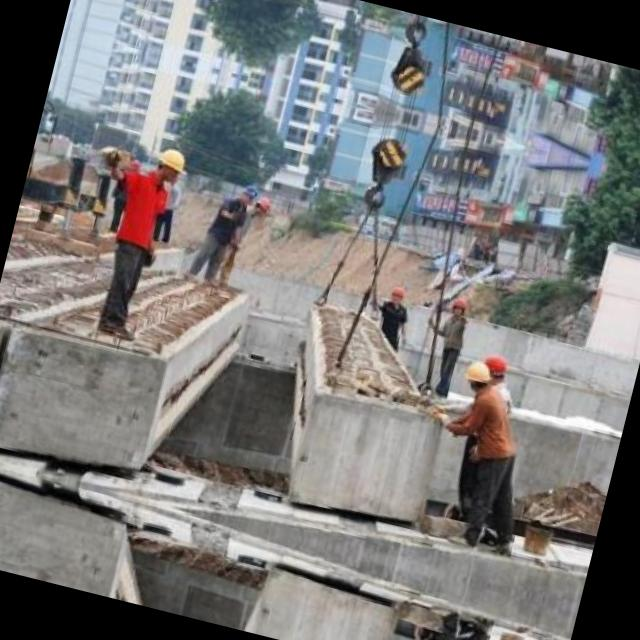helmet: (145, 140, 190, 186), (460, 356, 498, 394), (477, 345, 515, 383), (233, 179, 258, 205), (447, 290, 468, 318), (385, 280, 408, 304), (250, 194, 272, 217)
